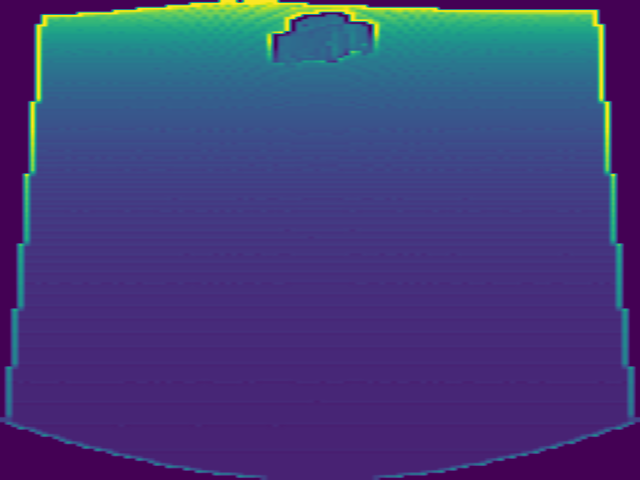car_0027: (267, 11, 378, 67)
